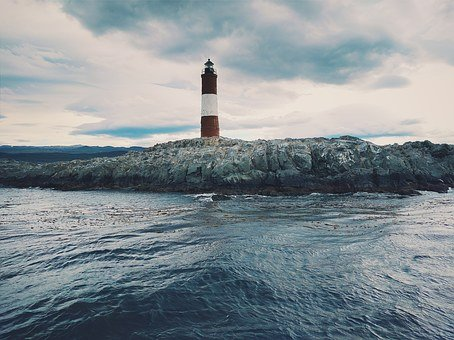sea: (8, 193, 454, 338)
sky: (5, 3, 448, 135)
